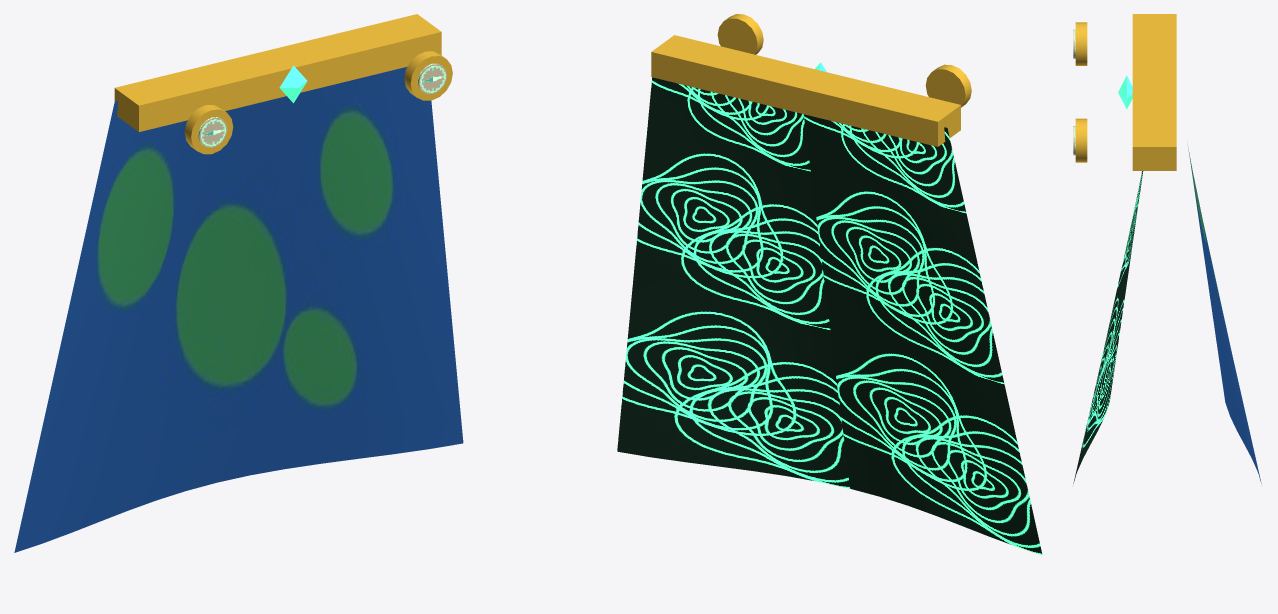
The model's file is back_eqsa4.glb.
The picture shows the model from 3 angles, left to right: view 1: azimuth 30°, elevation 25°; view 2: azimuth 150°, elevation 25°; view 3: azimuth 270°, elevation 25°; orthographic projection. The views are drawn at different scales.
Bounding box in the file's own units: 3.19 × 3.23 × 1.31.
6 materials, 4 textured.
